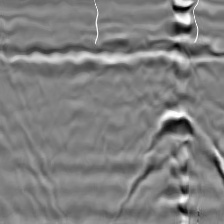Utility: (112, 107, 224, 224)
